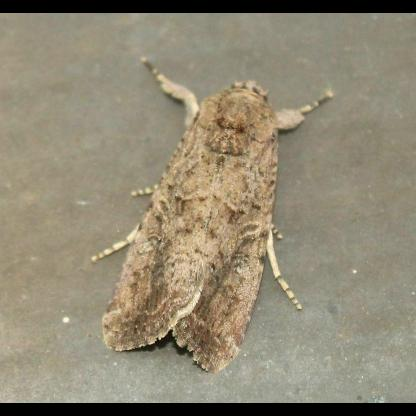Fall Armyworm Moth: (89, 54, 336, 376)
